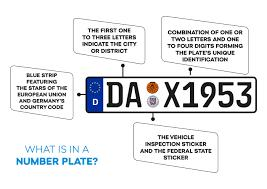1: (182, 81, 200, 108)
3: (235, 81, 252, 108)
5: (217, 81, 236, 107)
9: (201, 82, 217, 108)
A: (125, 81, 142, 109)
D: (107, 81, 125, 108)
X: (163, 81, 180, 108)
